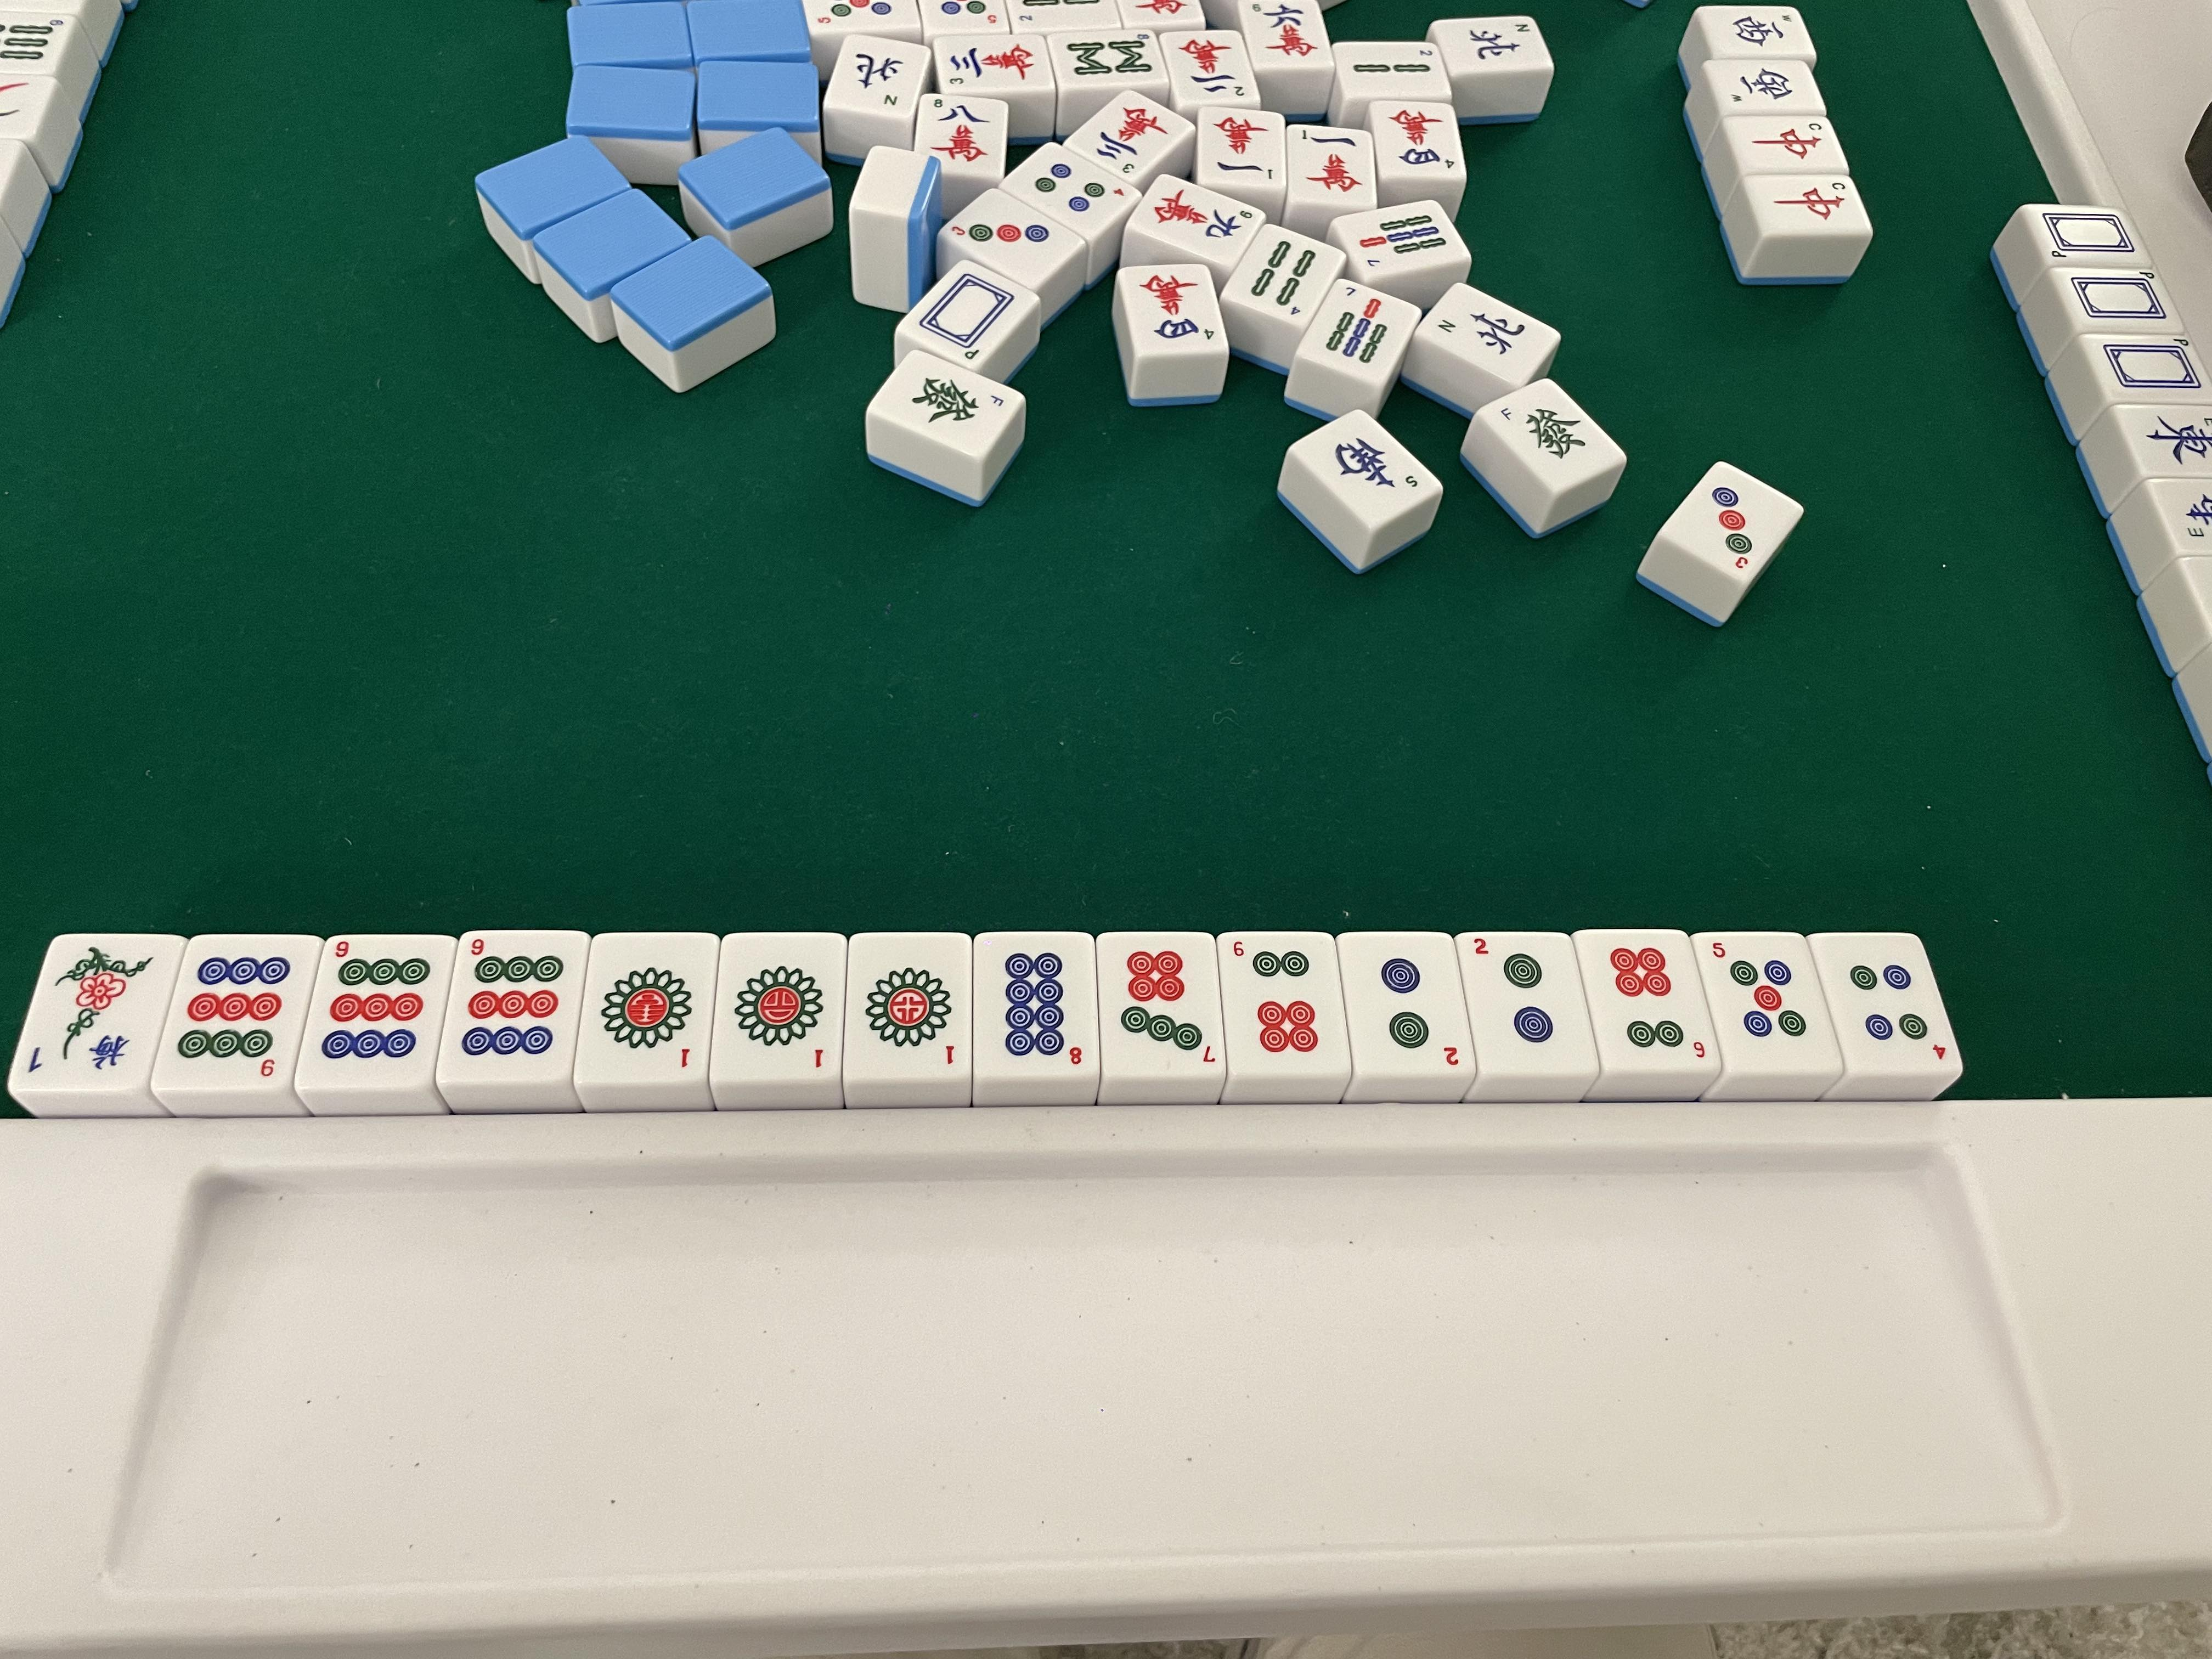circle-eight: (993, 941, 1083, 1072)
circle-five: (1712, 939, 1810, 1058)
circle-four: (1848, 945, 1951, 1061)
circle-nine: (172, 946, 296, 1075), (322, 939, 434, 1072), (463, 934, 566, 1065)
circle-one: (732, 941, 836, 1068), (862, 943, 963, 1066), (599, 943, 693, 1072)
circle-seven: (1118, 939, 1219, 1065)
circle-six: (1604, 936, 1707, 1060), (1235, 936, 1324, 1061)
circle-two: (1475, 934, 1562, 1061), (1374, 946, 1461, 1063)
flower-blue_one: (24, 943, 157, 1077)
